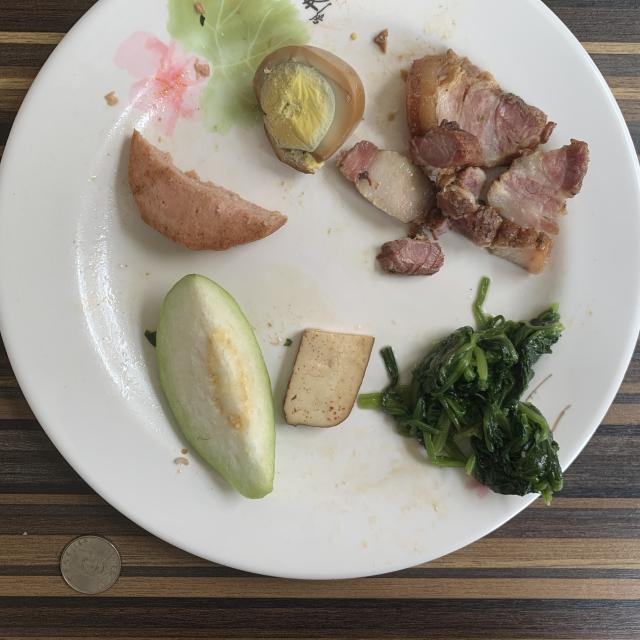Spam: (129, 130, 288, 250)
coin: (60, 535, 121, 594)
firm tofu: (284, 329, 374, 428)
grilled pork: (339, 50, 589, 275)
guava -sliced-: (156, 274, 275, 499)
mustard greens: (358, 278, 564, 502)
soy egg: (252, 45, 365, 174)
